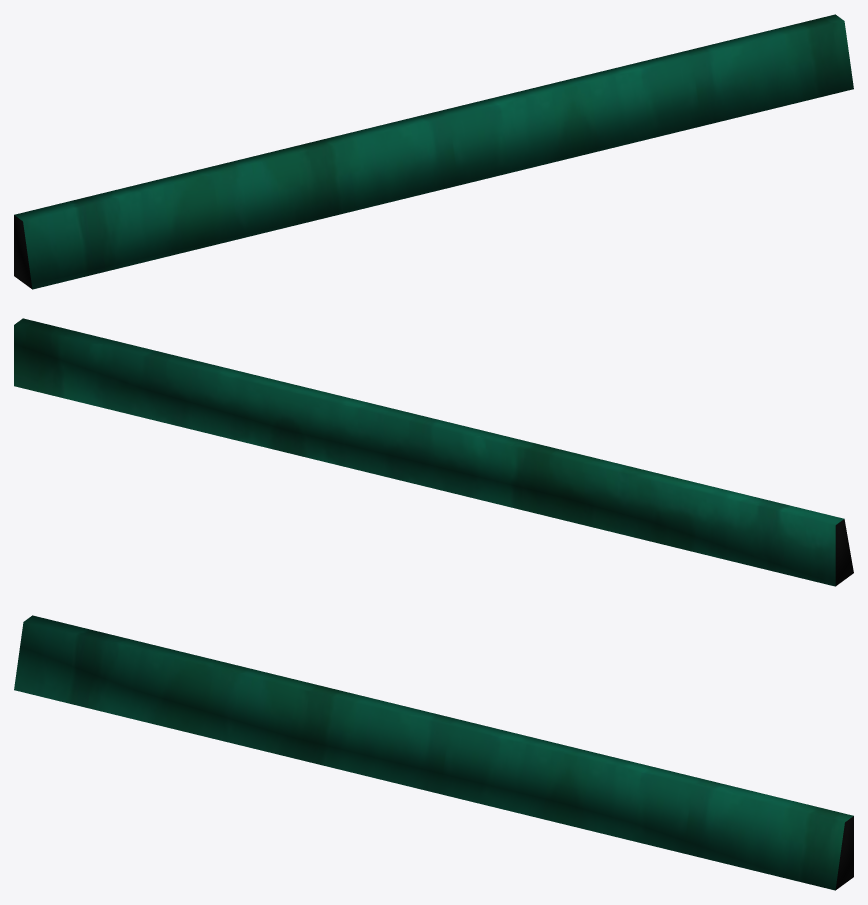
File: Frogames_DP_lowwall_3.FBX
3 views of the same model, one above another, from view 1: azimuth 30°, elevation 25°; view 2: azimuth 150°, elevation 25°; view 3: azimuth 330°, elevation 25° (orthographic).
Visible parts, largest first — view 1: lowwall_3; view 2: lowwall_3; view 3: lowwall_3.
Part boxes in pixels (bbox=[...]): lowwall_3: bbox=[14, 14, 853, 289]; lowwall_3: bbox=[14, 318, 853, 586]; lowwall_3: bbox=[14, 615, 853, 890].
Size of the model in its own units: 30 by 1.17 by 2.14.
